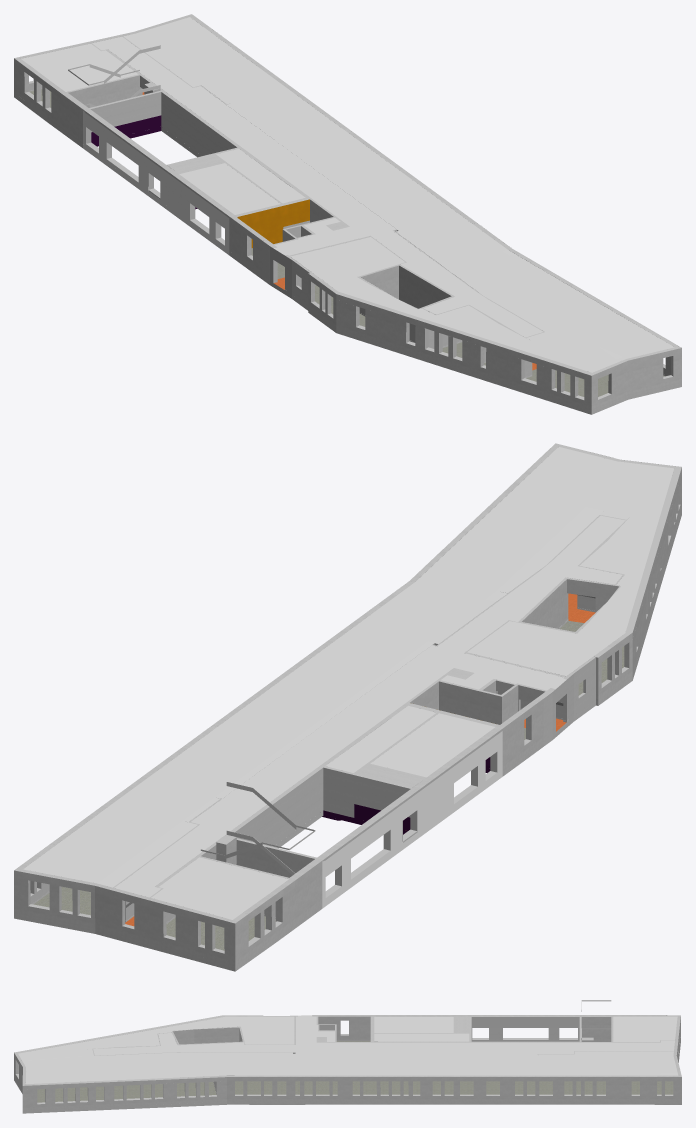
File: 1_floor_aisle_b_sized.glb
The picture shows the model from 3 angles, top to bottom: view 1: azimuth 30°, elevation 25°; view 2: azimuth 150°, elevation 25°; view 3: azimuth 270°, elevation 25°; orthographic projection. The views are drawn at different scales.
Parts seen in each view (by area): view 1: Cube_093, Cube_068, Cube_066; view 2: Cube_093, Cube_068, Cube_066; view 3: Cube_093, Cube_068, Cube_066.
Part boxes in pixels (x1=…): Cube_093: x1=21, y1=17, x2=674, y2=372; Cube_068: x1=14, y1=14, x2=681, y2=410; Cube_066: x1=14, y1=89, x2=681, y2=414; Cube_093: x1=23, y1=447, x2=674, y2=919; Cube_068: x1=14, y1=443, x2=681, y2=966; Cube_066: x1=14, y1=510, x2=681, y2=971; Cube_093: x1=18, y1=1015, x2=678, y2=1083; Cube_068: x1=14, y1=1000, x2=681, y2=1110; Cube_066: x1=14, y1=1041, x2=681, y2=1113.
Bounding box in the file's own units: 18.87 × 8.62 × 75.1.
Materials: 11 (6 with a texture image).
